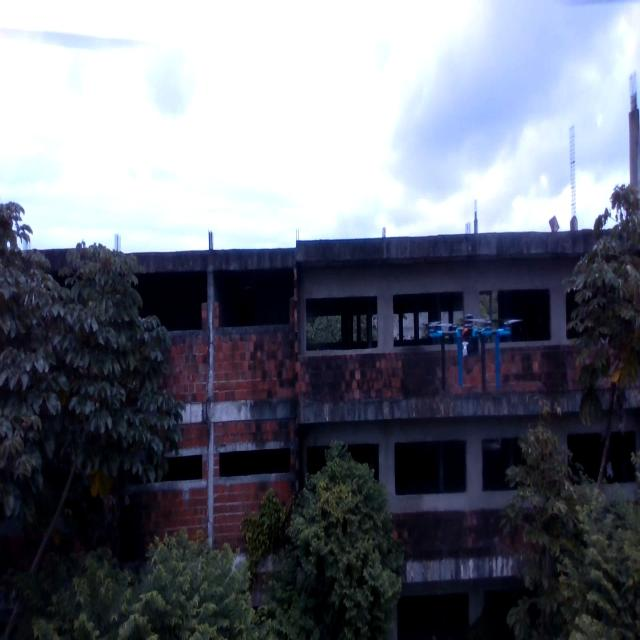-uav-: (413, 295, 529, 453)
